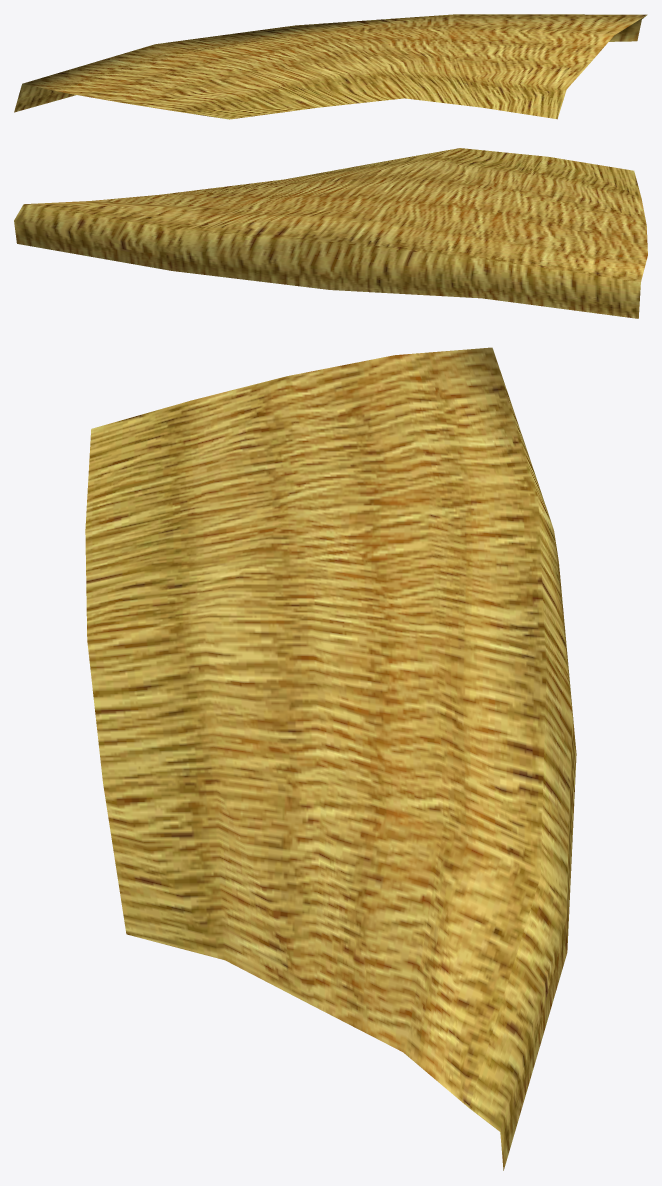
Rendered from HTOWN01_BAGROW3AWNING.fbx.
3 renders of one model, top to bottom at view 1: azimuth 30°, elevation 25°; view 2: azimuth 150°, elevation 25°; view 3: azimuth 270°, elevation 25°, orthographic. The views are drawn at different scales.
Visible parts, largest first — view 1: HTOWN01_BAGROW3AWNING; view 2: HTOWN01_BAGROW3AWNING; view 3: HTOWN01_BAGROW3AWNING.
Part boxes in pixels (bbox=[...]): HTOWN01_BAGROW3AWNING: bbox=[14, 14, 647, 119]; HTOWN01_BAGROW3AWNING: bbox=[14, 148, 647, 318]; HTOWN01_BAGROW3AWNING: bbox=[85, 347, 576, 1170].
Bounding box in the file's own units: 72937 × 13603 × 24829.
Materials: 2 (2 with a texture image).
